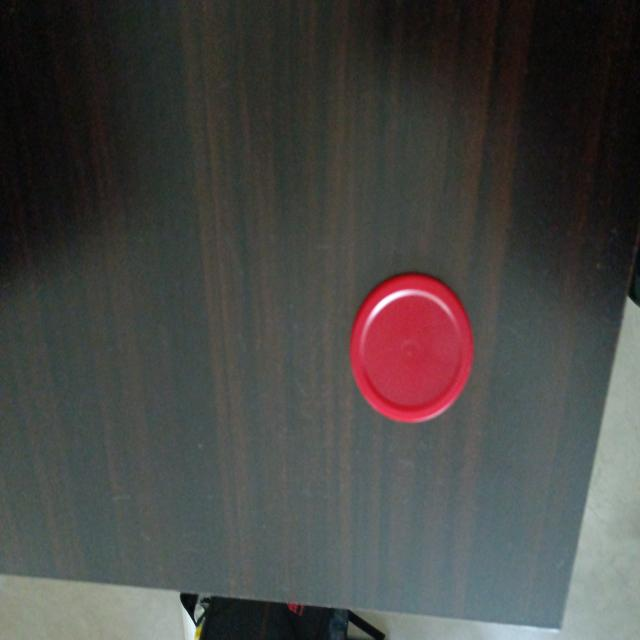chip: (346, 269, 476, 426)
